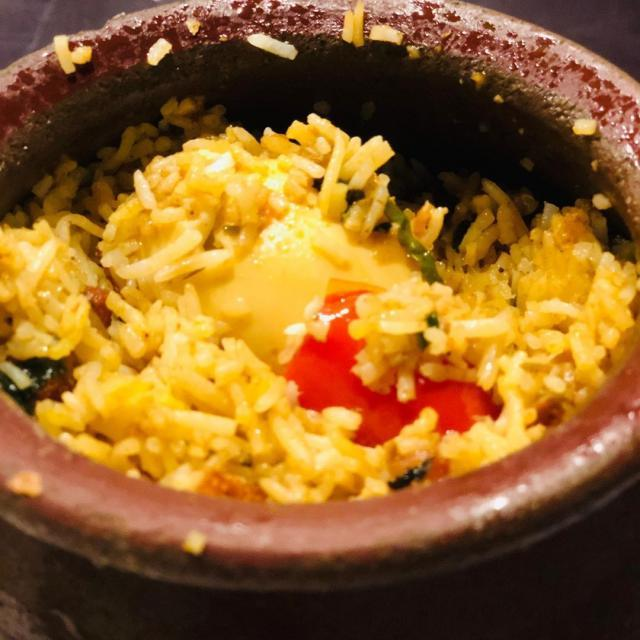biryani: (0, 96, 640, 503)
